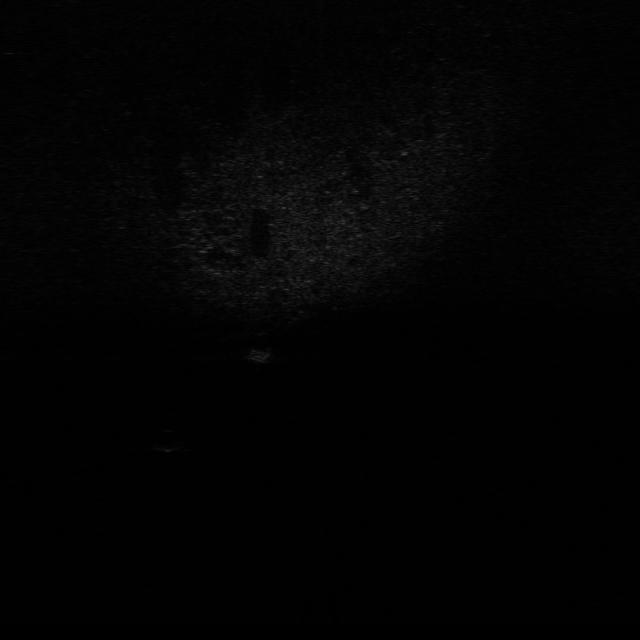ball: (143, 426, 186, 455)
cube: (243, 342, 282, 365)
